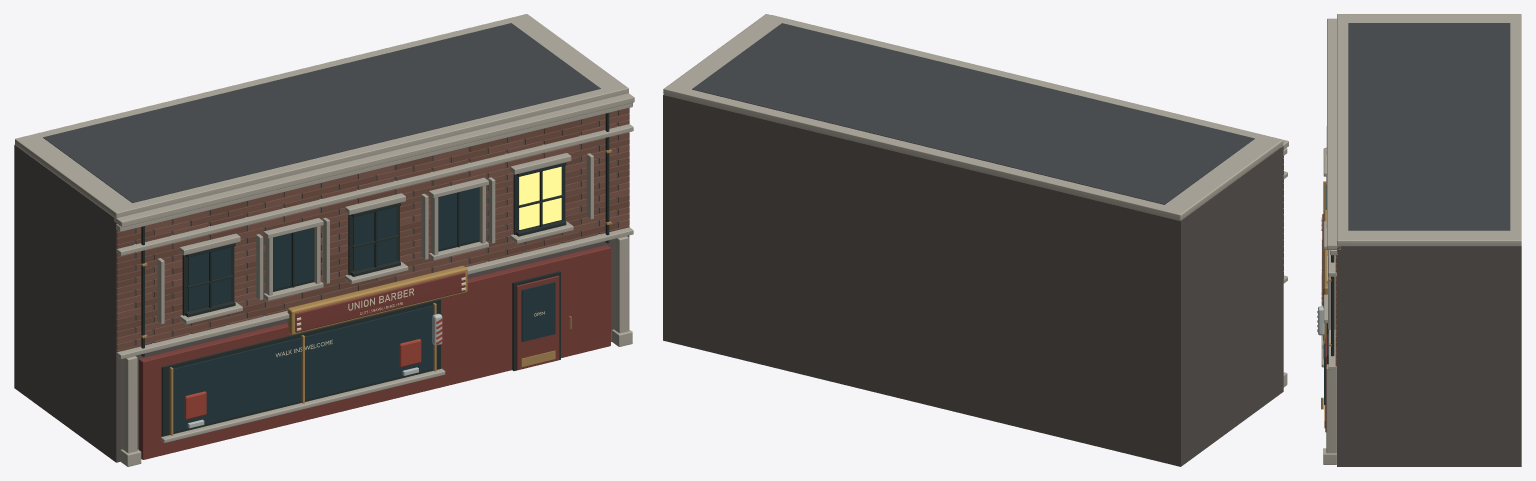
File: district-union-barber.glb
3 renders of one model, left to right at view 1: azimuth 30°, elevation 25°; view 2: azimuth 150°, elevation 25°; view 3: azimuth 270°, elevation 25°, orthographic. The views are drawn at different scales.
Parts seen in each view (by area): view 1: District Roof membrane, District Warm limestone, Existing envelope, District Opaque dark glazing, District Coffee enamel, Roof cap, District Charcoal painted metal, District Brick tone 3, District Brick tone 0, District Brick tone 4, District Brick tone 1, District Brick tone 2 (+6 smaller); view 2: Existing envelope, District Roof membrane, Roof cap, District Warm limestone; view 3: Existing envelope, District Roof membrane, Roof cap, District Warm limestone, District Charcoal painted metal, District Aged brass.
Boxes of the visible parts, left/top/right/bottom form: District Roof membrane: left=43, top=23, right=600, bottom=202; District Warm limestone: left=114, top=93, right=634, bottom=466; Existing envelope: left=14, top=110, right=629, bottom=462; District Opaque dark glazing: left=173, top=187, right=555, bottom=431; District Coffee enamel: left=139, top=245, right=610, bottom=459; Roof cap: left=15, top=14, right=628, bottom=218; District Charcoal painted metal: left=141, top=113, right=609, bottom=436; District Brick tone 3: left=116, top=113, right=629, bottom=345; District Brick tone 0: left=116, top=120, right=629, bottom=352; District Brick tone 4: left=135, top=123, right=629, bottom=342; District Brick tone 1: left=116, top=108, right=629, bottom=337; District Brick tone 2: left=116, top=111, right=629, bottom=350; Existing envelope: left=663, top=94, right=1283, bottom=466; District Roof membrane: left=692, top=23, right=1254, bottom=204; Roof cap: left=663, top=14, right=1283, bottom=220; District Warm limestone: left=772, top=15, right=1288, bottom=387; Existing envelope: left=1337, top=245, right=1521, bottom=466; District Roof membrane: left=1348, top=23, right=1510, bottom=230; Roof cap: left=1337, top=14, right=1521, bottom=245; District Warm limestone: left=1321, top=18, right=1340, bottom=464; District Charcoal painted metal: left=1327, top=255, right=1334, bottom=364; District Aged brass: left=1321, top=181, right=1331, bottom=428.
Bounding box in the file's own units: 15.7 × 7.31 × 5.98.
